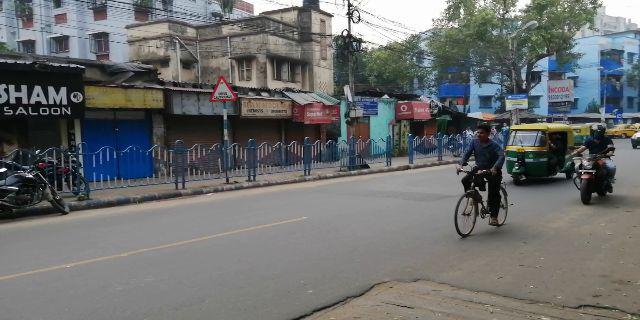Autorickshaw: (506, 124, 577, 182)
Cycle: (446, 124, 514, 239)
Motorbike: (573, 126, 623, 207)
